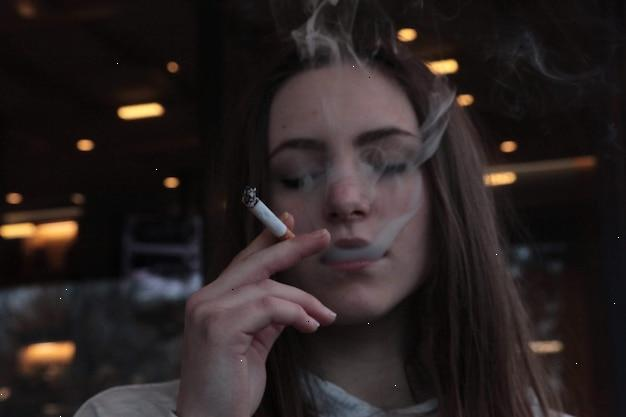cigarette: (242, 186, 294, 239)
